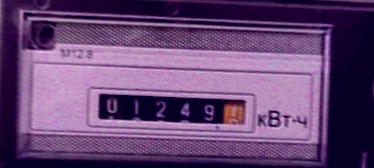0: (104, 96, 118, 117)
1: (129, 98, 140, 118)
2: (153, 100, 167, 121)
4: (178, 101, 190, 121)
7: (226, 100, 240, 120)
9: (200, 103, 215, 125)
screen: (77, 81, 255, 141)
